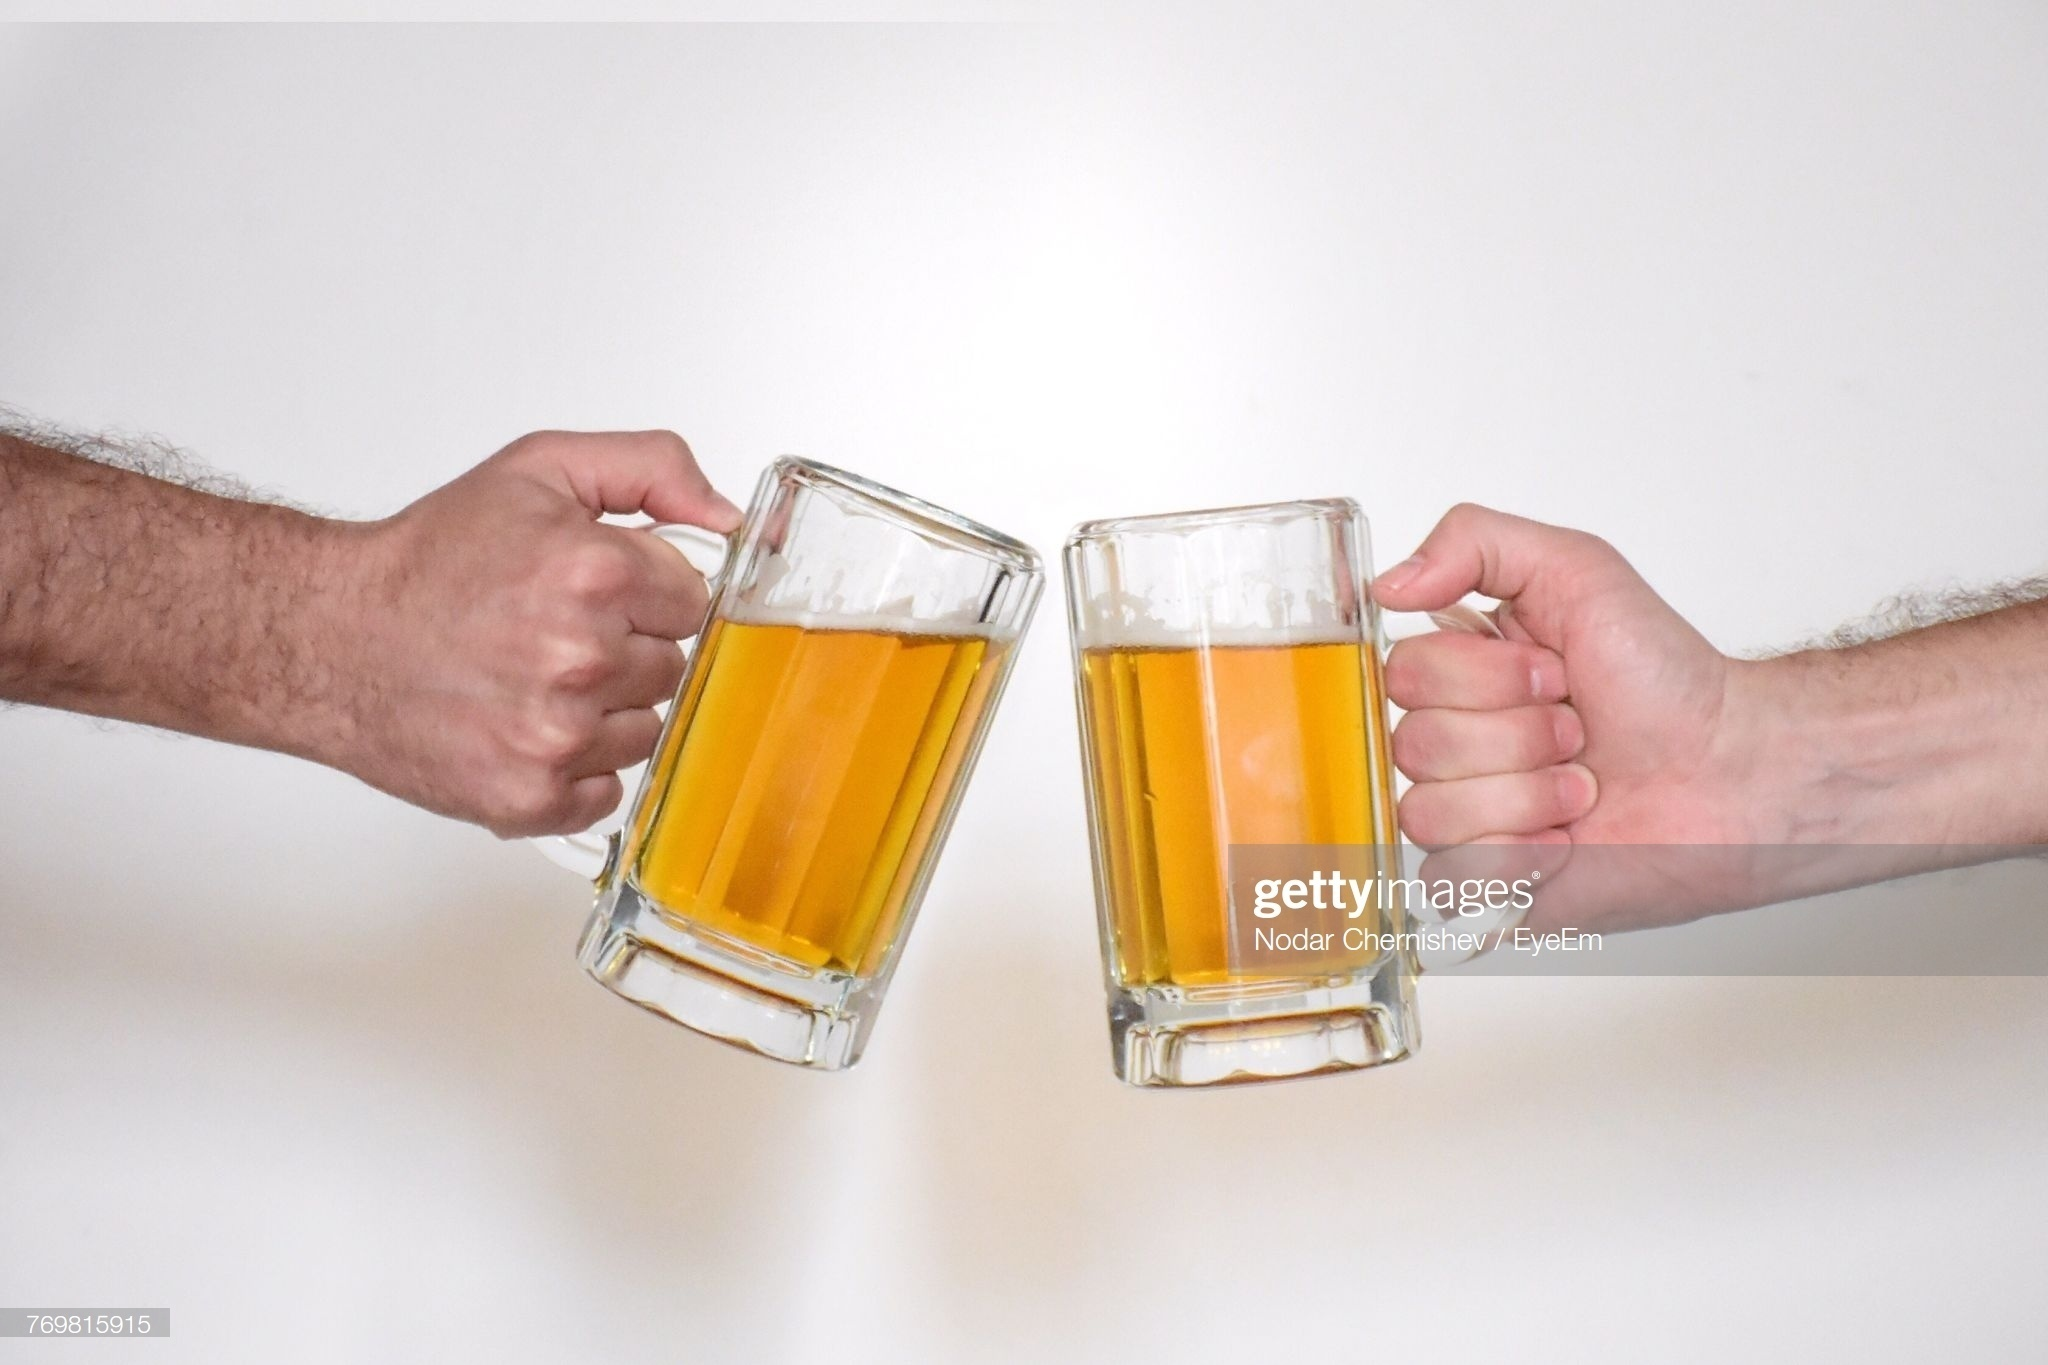whiskey: (595, 456, 1031, 1050), (1087, 503, 1431, 1088)
